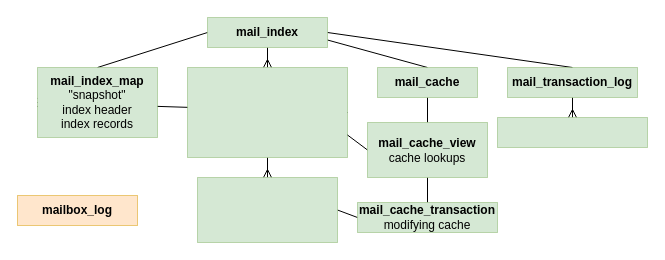
Some shapes in this 665 by 260 pixel diagram are drawn without their labels. The centre of each missing label's shape, as x and y in pixels:
"mail_index_transaction modifying index" belongs at (x=267, y=209).
"mail_index_view seq<->uid persistent reading index" belongs at (x=267, y=112).
"mail_transaction_log_file" belongs at (x=572, y=132).
